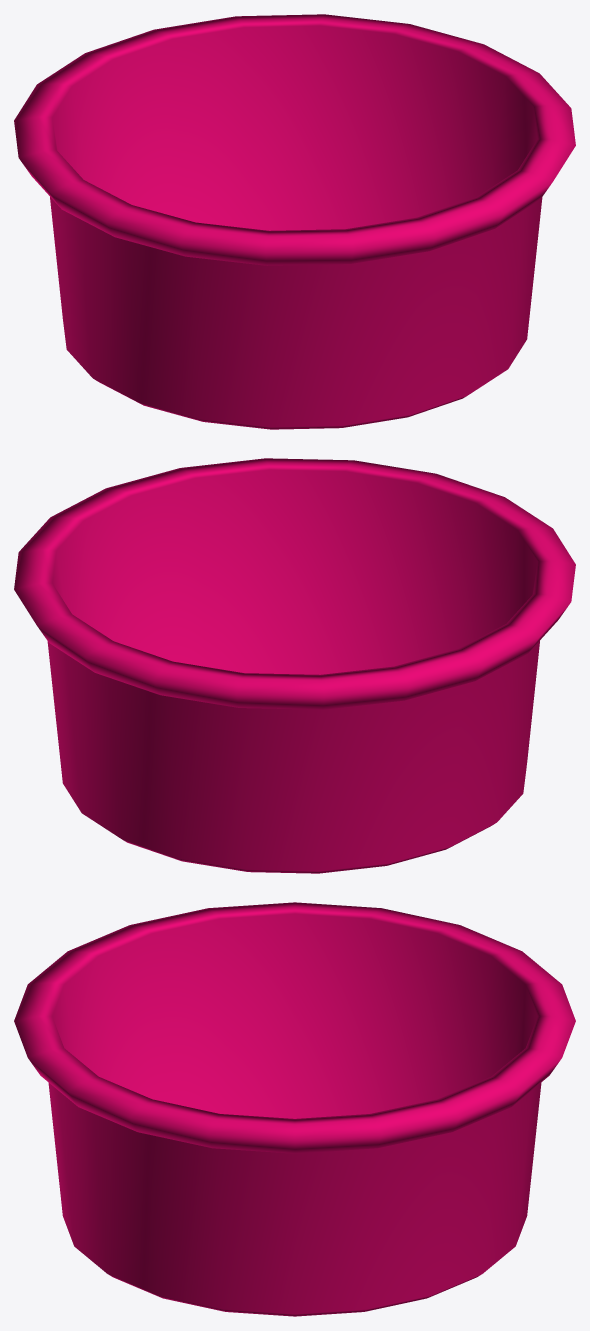
The model's file is Wash_Basin_01_Lod0.fbx.
The picture shows the model from 3 angles, top to bottom: view 1: azimuth 30°, elevation 25°; view 2: azimuth 150°, elevation 25°; view 3: azimuth 270°, elevation 25°; orthographic projection.
Visible parts, largest first — view 1: Wash_Basin_01_Lod0; view 2: Wash_Basin_01_Lod0; view 3: Wash_Basin_01_Lod0.
Part boxes in pixels (bbox=[...]): Wash_Basin_01_Lod0: bbox=[14, 14, 575, 429]; Wash_Basin_01_Lod0: bbox=[14, 458, 575, 873]; Wash_Basin_01_Lod0: bbox=[14, 902, 575, 1316].
Size of the model in its own units: 57.12 by 23.01 by 57.12.
